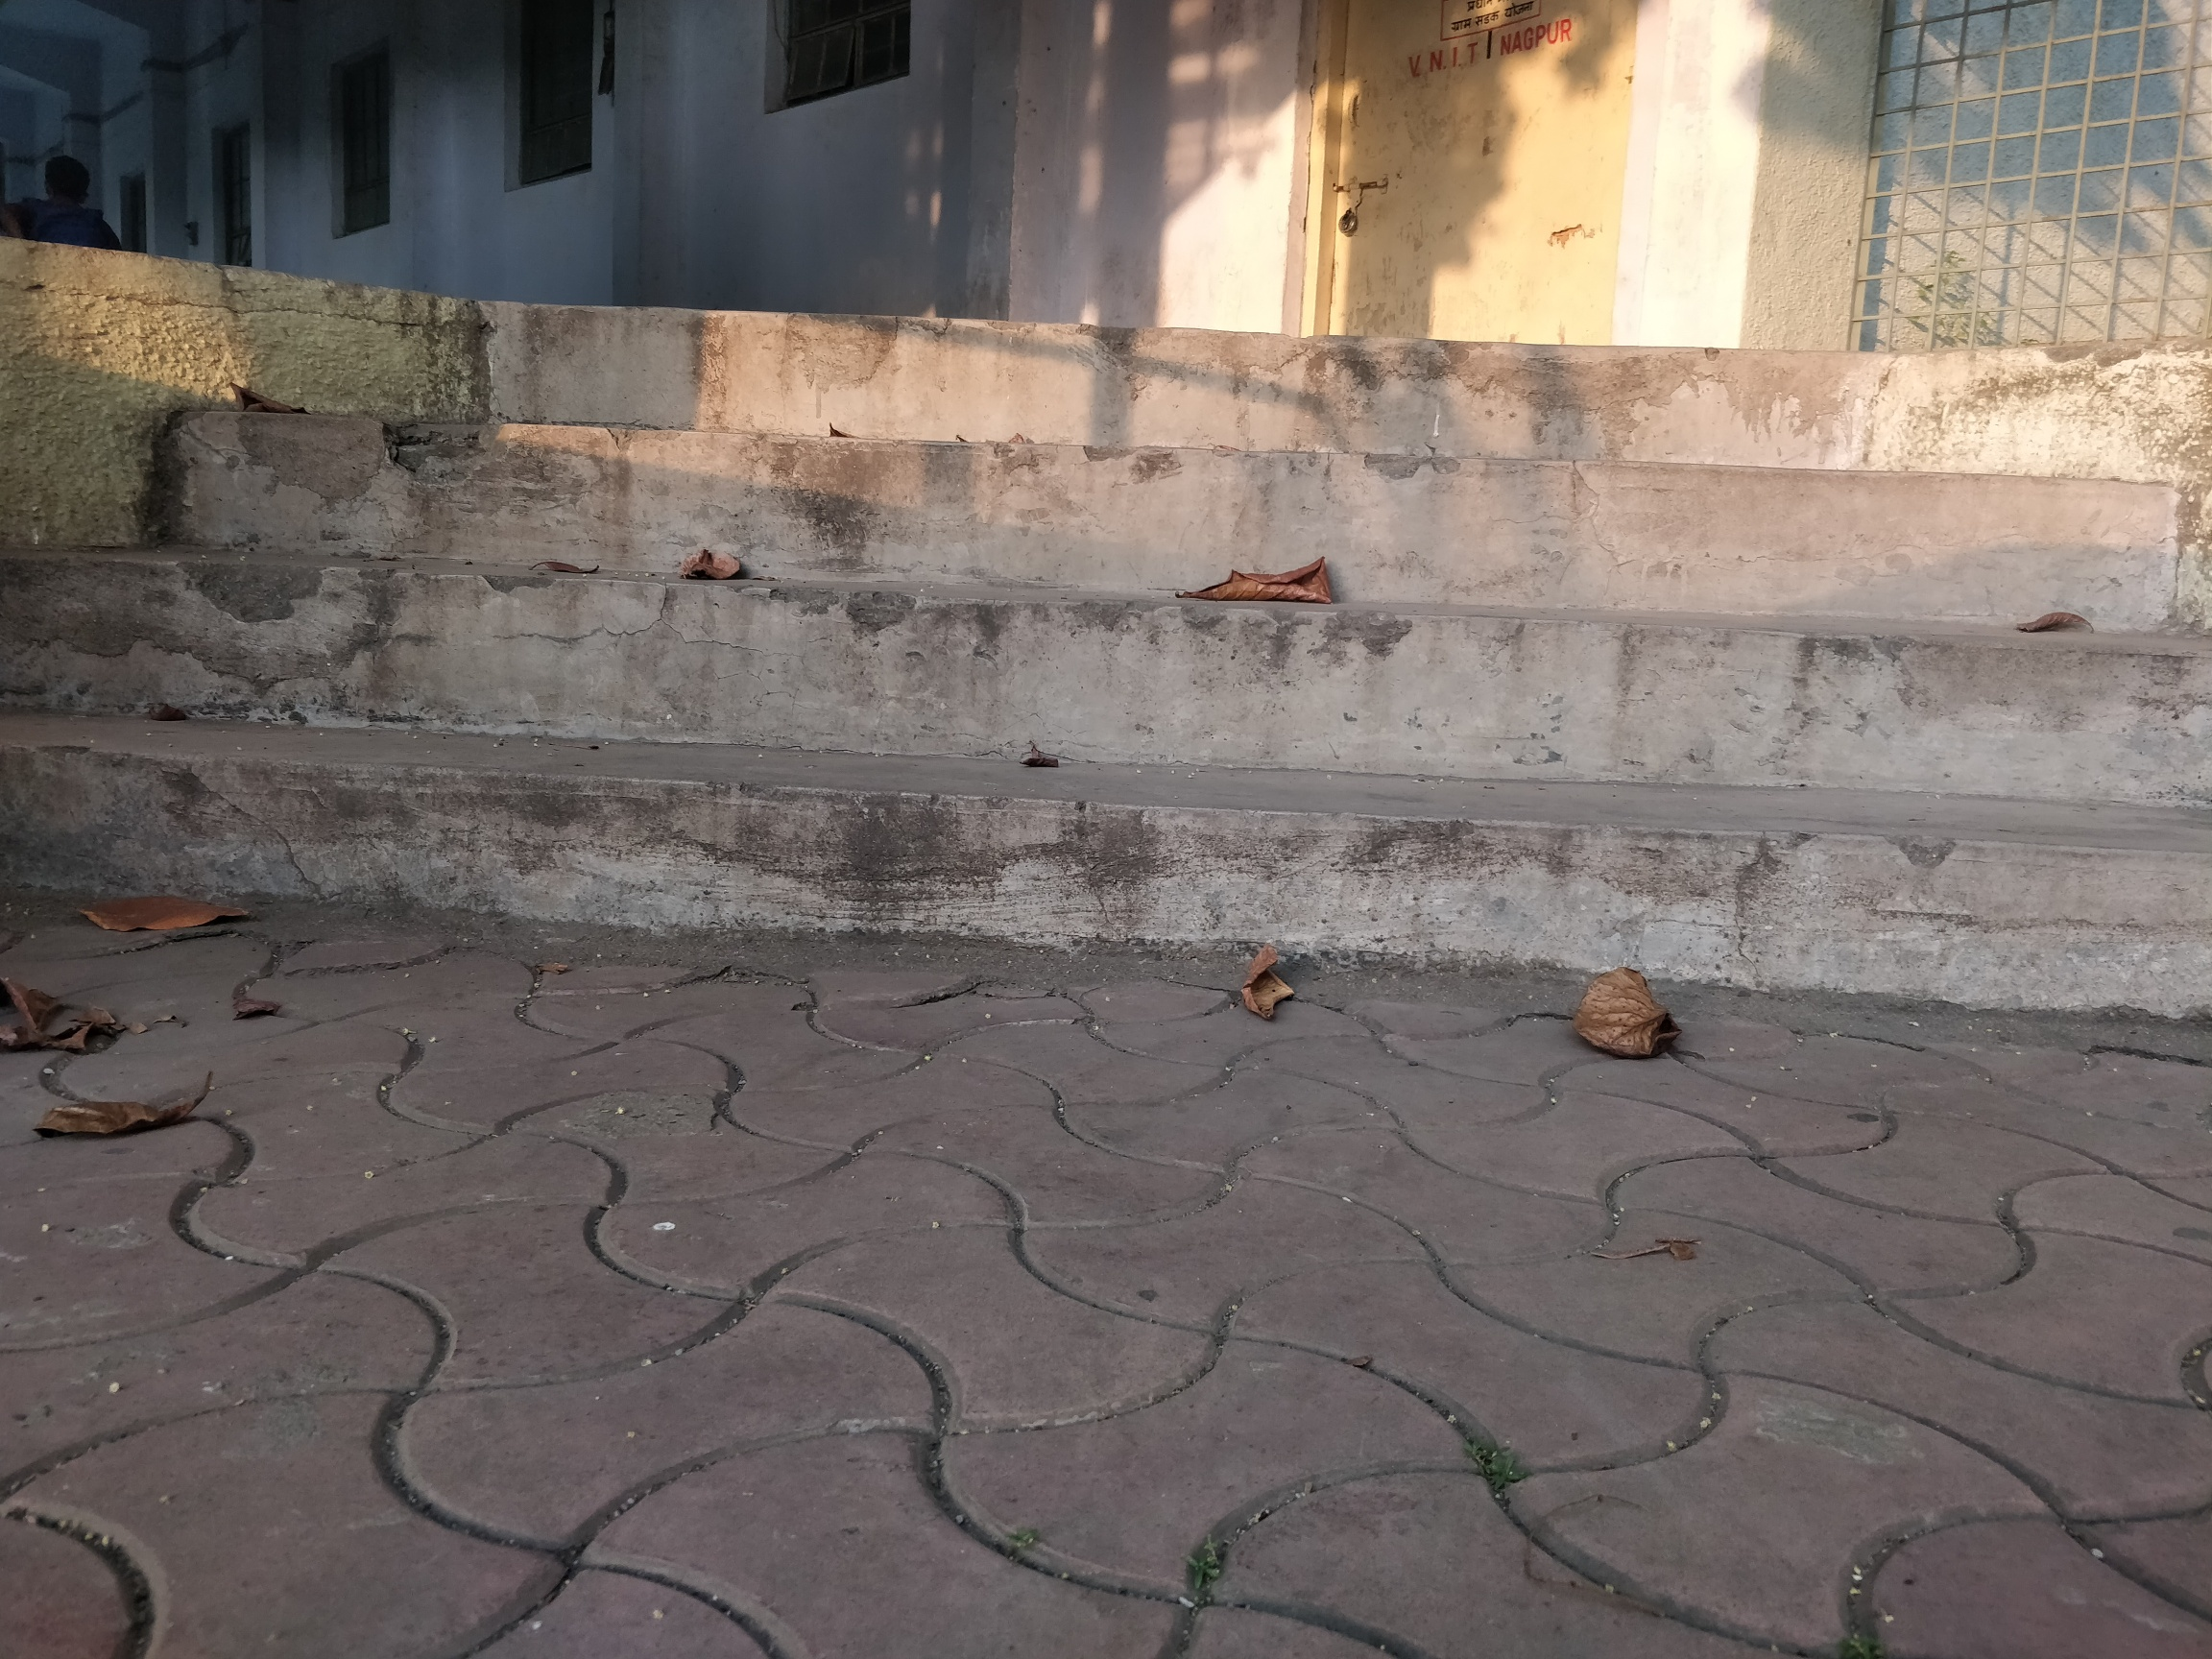stairs_up: (2, 240, 2212, 1025)
